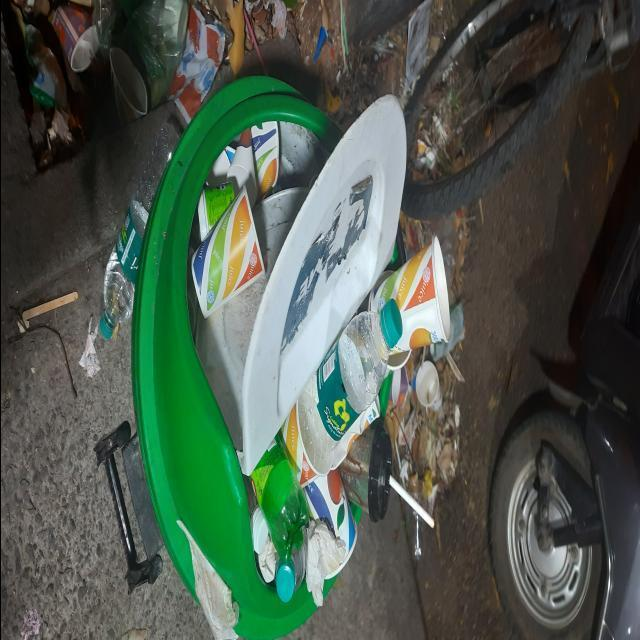Disposable: (338, 419, 390, 522)
Garbage: (179, 110, 461, 626)
Plastic: (197, 181, 234, 243), (405, 506, 422, 560), (250, 506, 268, 555), (406, 474, 426, 509)
Plastic_Straw: (389, 476, 434, 528)
Plastic_bottle: (297, 299, 401, 468), (250, 438, 308, 563), (274, 528, 306, 603)
Plastic_wraper: (428, 214, 458, 287), (429, 303, 462, 363)
